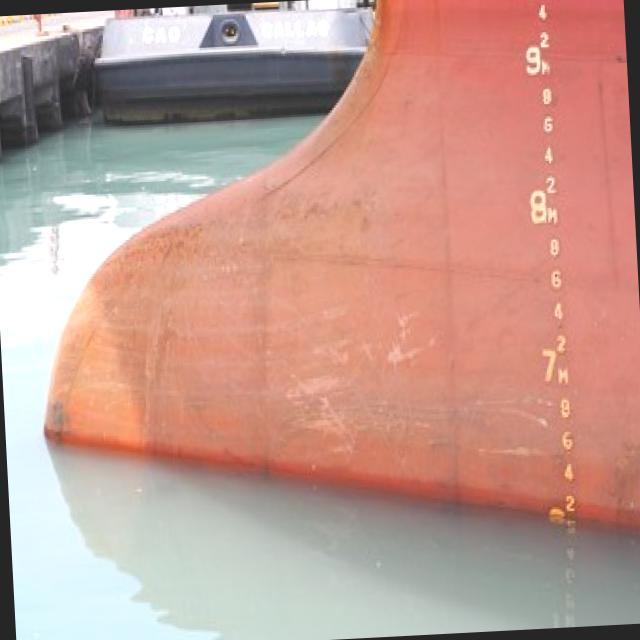Ship Draft Marks: (530, 189, 548, 228), (542, 348, 558, 385), (524, 46, 541, 76), (542, 116, 556, 136), (558, 399, 572, 419), (560, 432, 574, 452), (553, 302, 565, 324), (556, 334, 568, 356), (551, 270, 563, 290), (548, 207, 559, 227), (565, 494, 576, 514), (541, 88, 553, 106), (564, 464, 576, 482), (558, 367, 569, 386), (540, 59, 552, 76), (546, 177, 558, 194), (537, 4, 548, 22), (549, 240, 560, 258), (543, 146, 553, 164), (539, 32, 550, 48)
